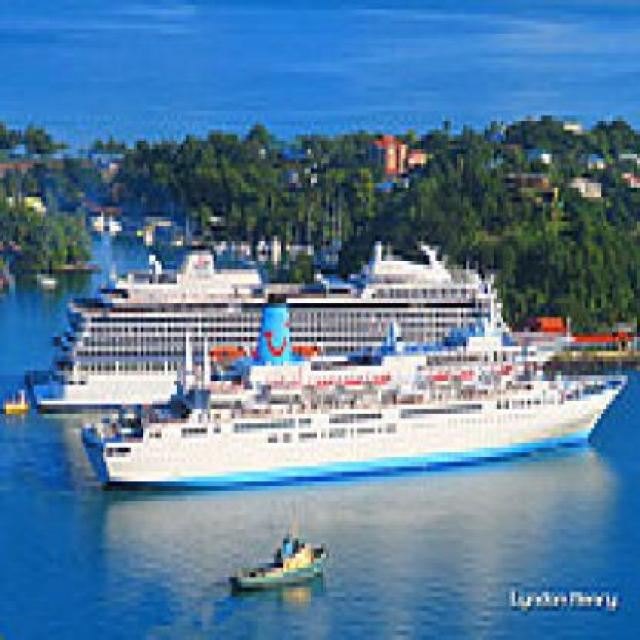cruise: (95, 280, 638, 502)
